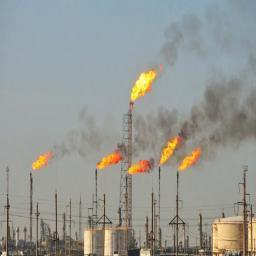fire: (130, 70, 156, 103), (177, 148, 201, 173), (96, 150, 123, 169), (160, 137, 179, 164), (127, 158, 150, 175), (29, 152, 50, 170)
smoke: (117, 11, 248, 177), (50, 105, 118, 164)
